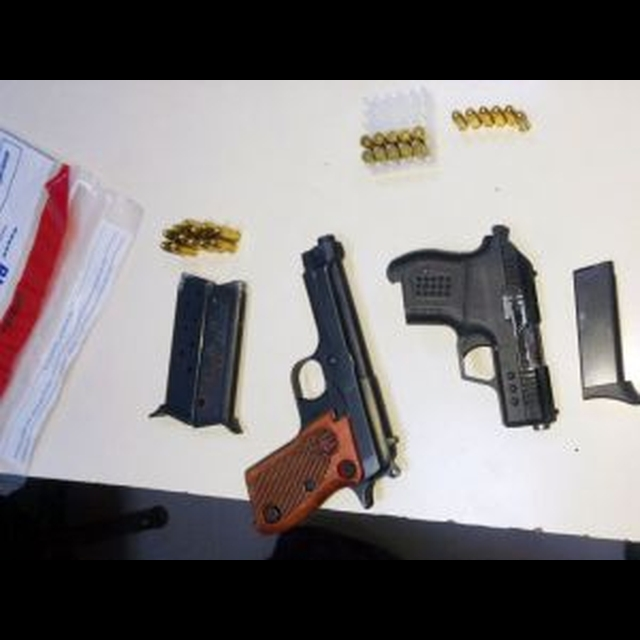SILAH: (260, 222, 390, 548)
